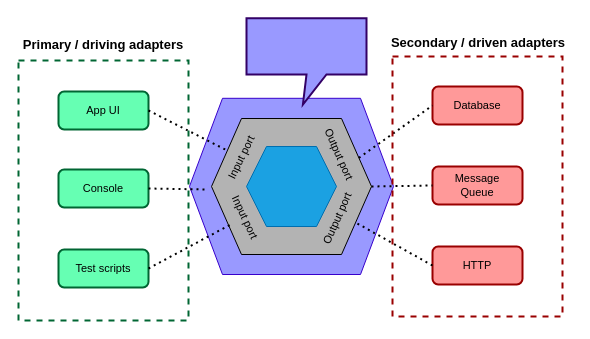
Some shapes in this 590 by 339 pixel diagram are drawn without their labels. Each missing label, with the box of its shape:
Business logic: (246, 146, 336, 226)
Integration tests: (245, 17, 367, 105)
